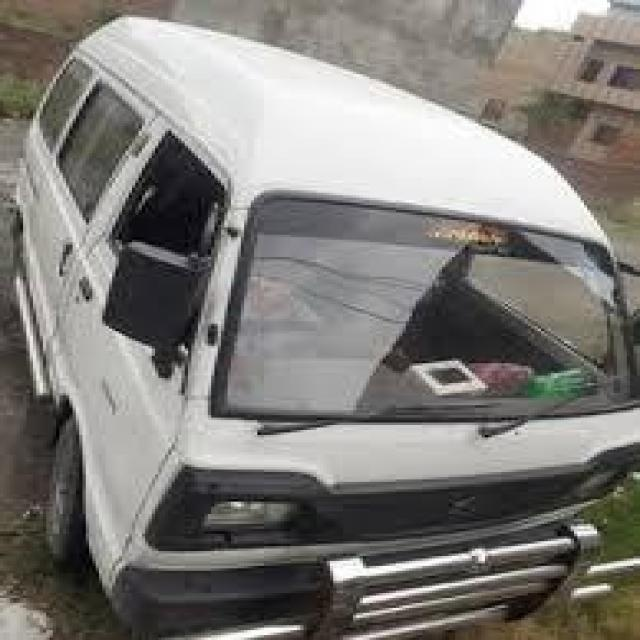Van: (6, 12, 640, 639)
